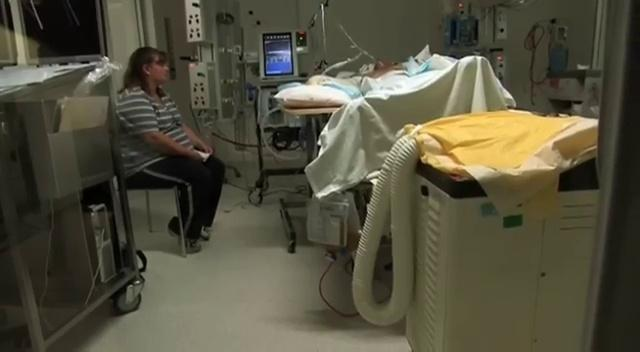others: (113, 45, 226, 253)
patient: (307, 46, 488, 121)
